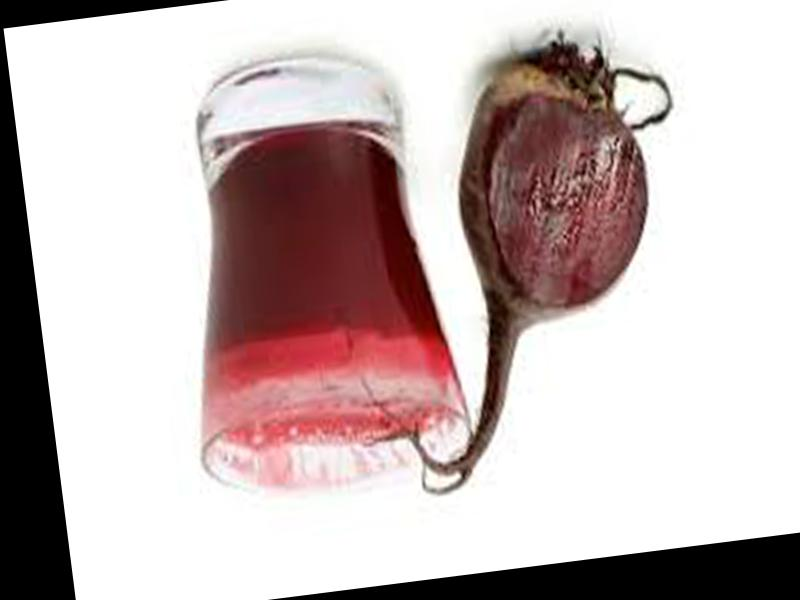Beet: (328, 24, 715, 501)
